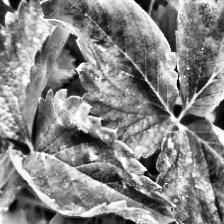Powdery Mildew Leaf: (38, 0, 184, 162), (8, 88, 177, 224), (154, 117, 224, 224), (173, 0, 224, 118)
